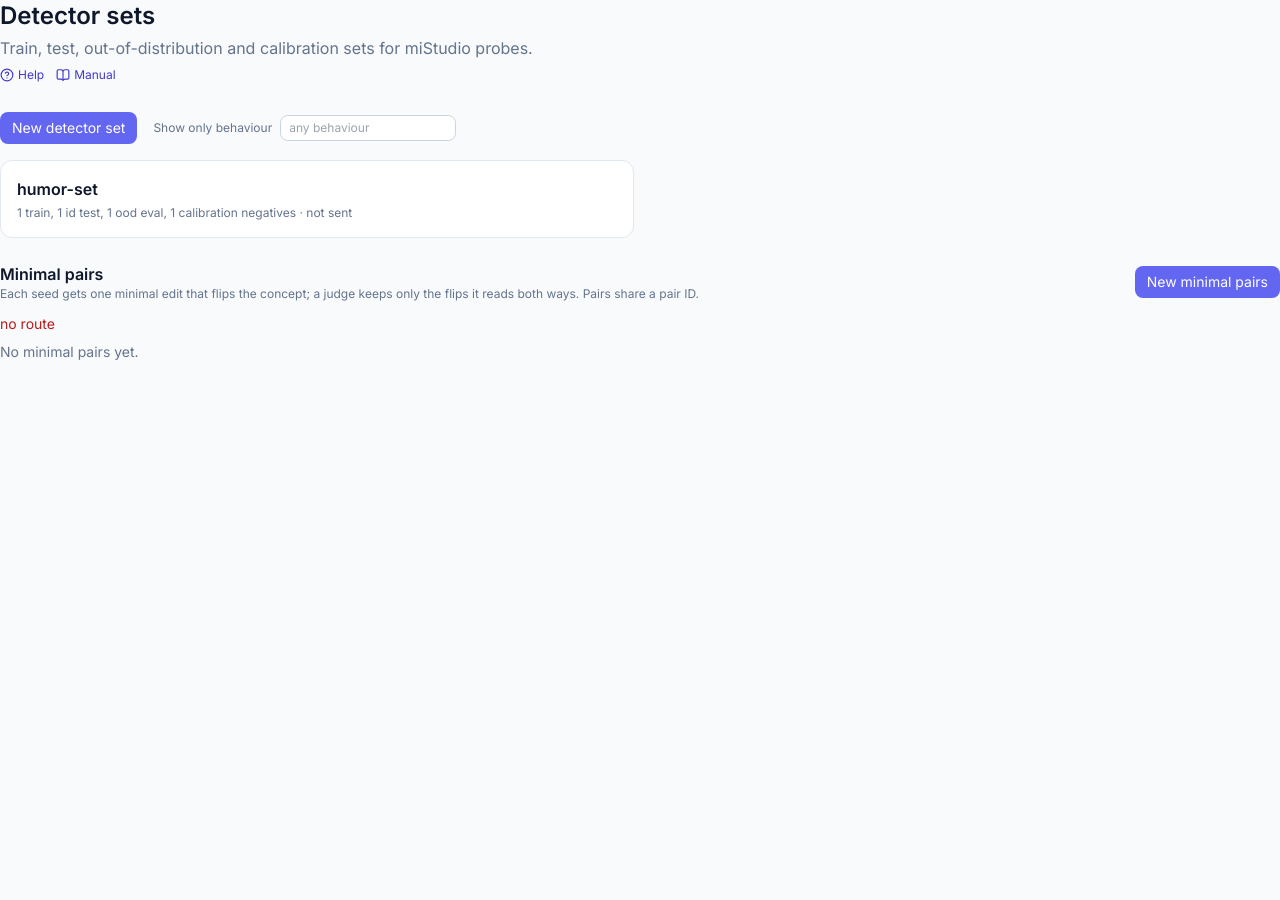
Scenario: DetectorSetsPanel through the real store and API client › an agent-style 202 with an approval shows the waiting notice
Click the button with test id "set-card-humor-set" at (57, 189), box [0, 160, 634, 238]
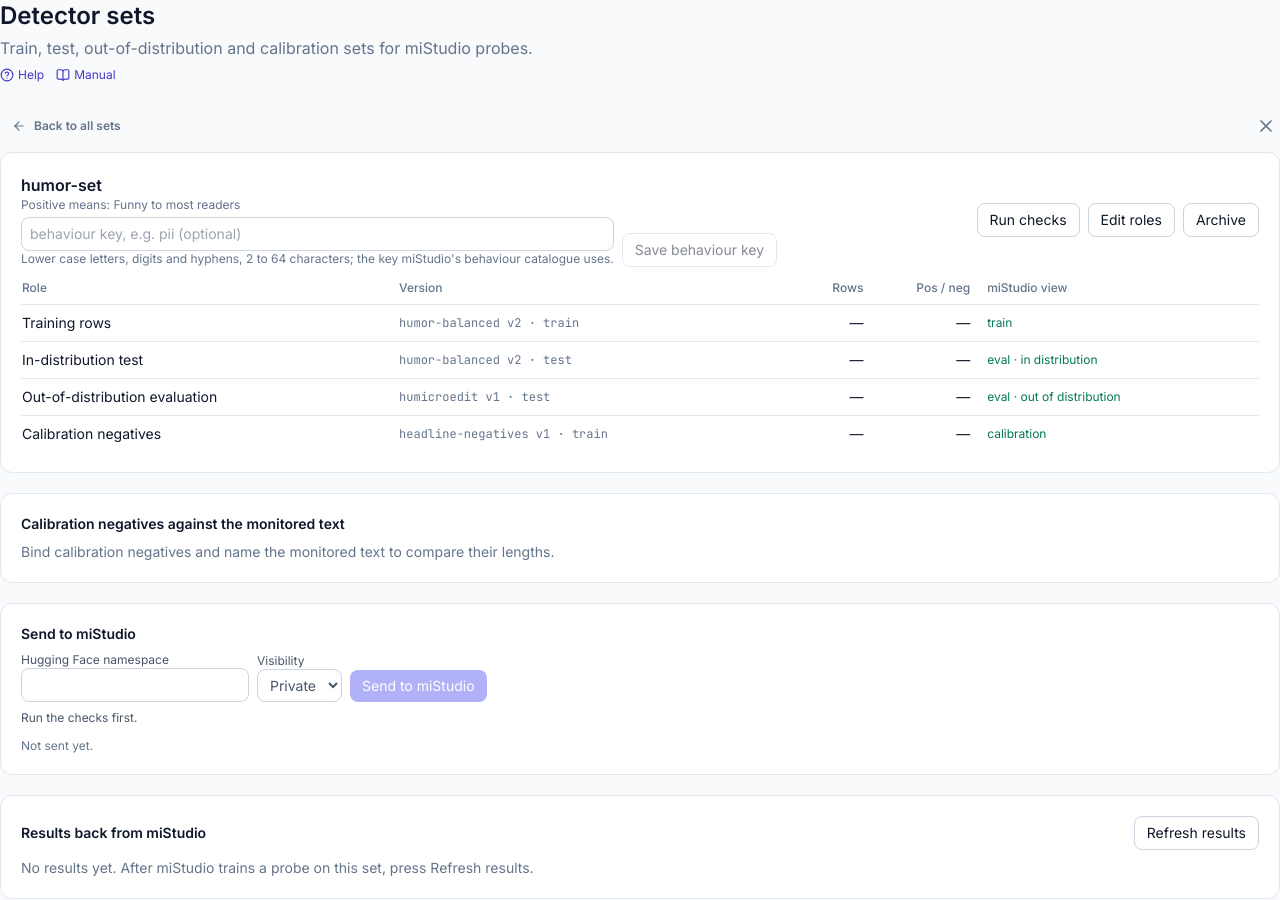
Click the button "Run checks" at (1028, 220), box [977, 203, 1080, 237]
(page scrolled)
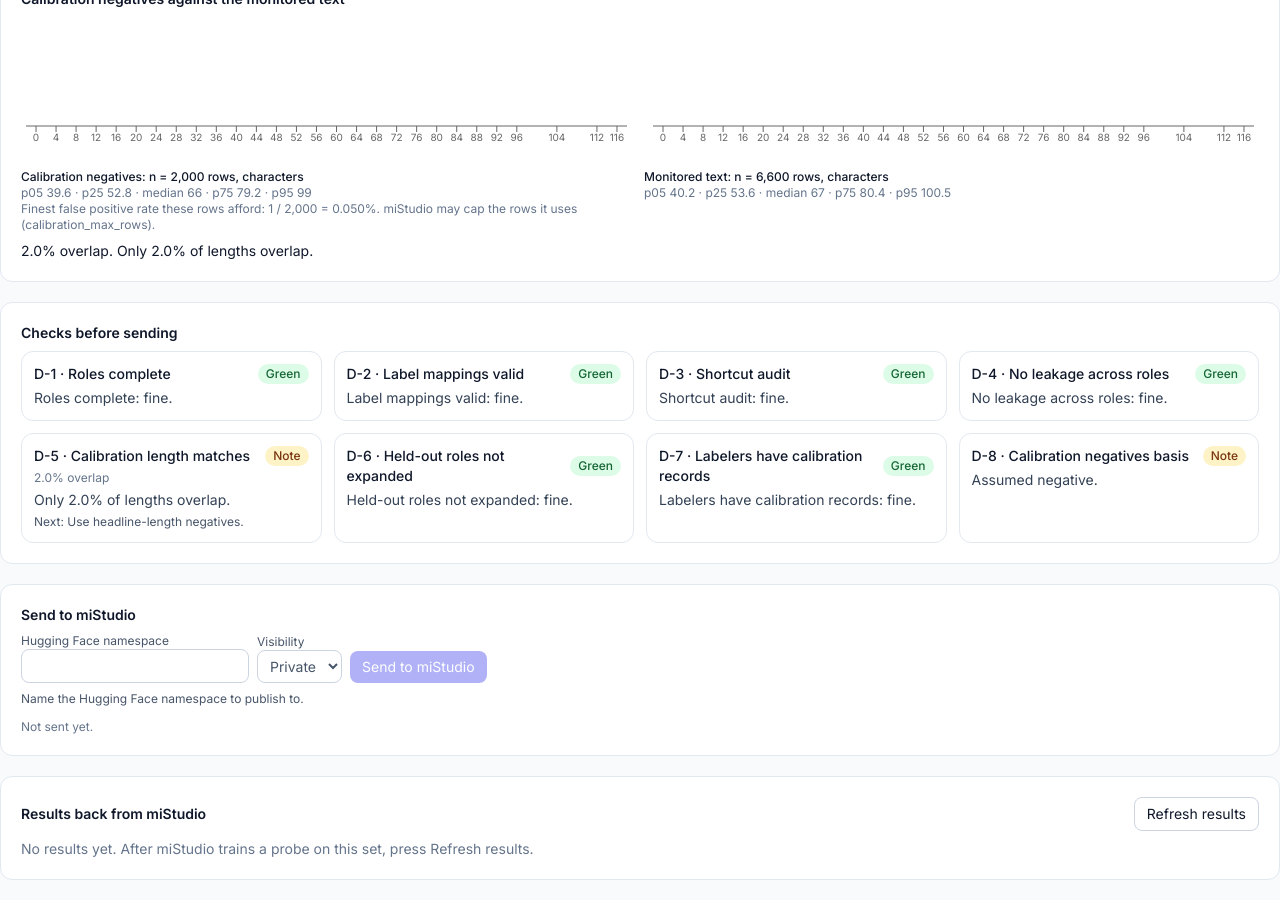
Check: the element with test id "detector-checks" is shown, box [21, 351, 1259, 543]
Type "mistudio" into the field labelled "Hugging Face namespace" at (135, 666), box [21, 649, 249, 683]
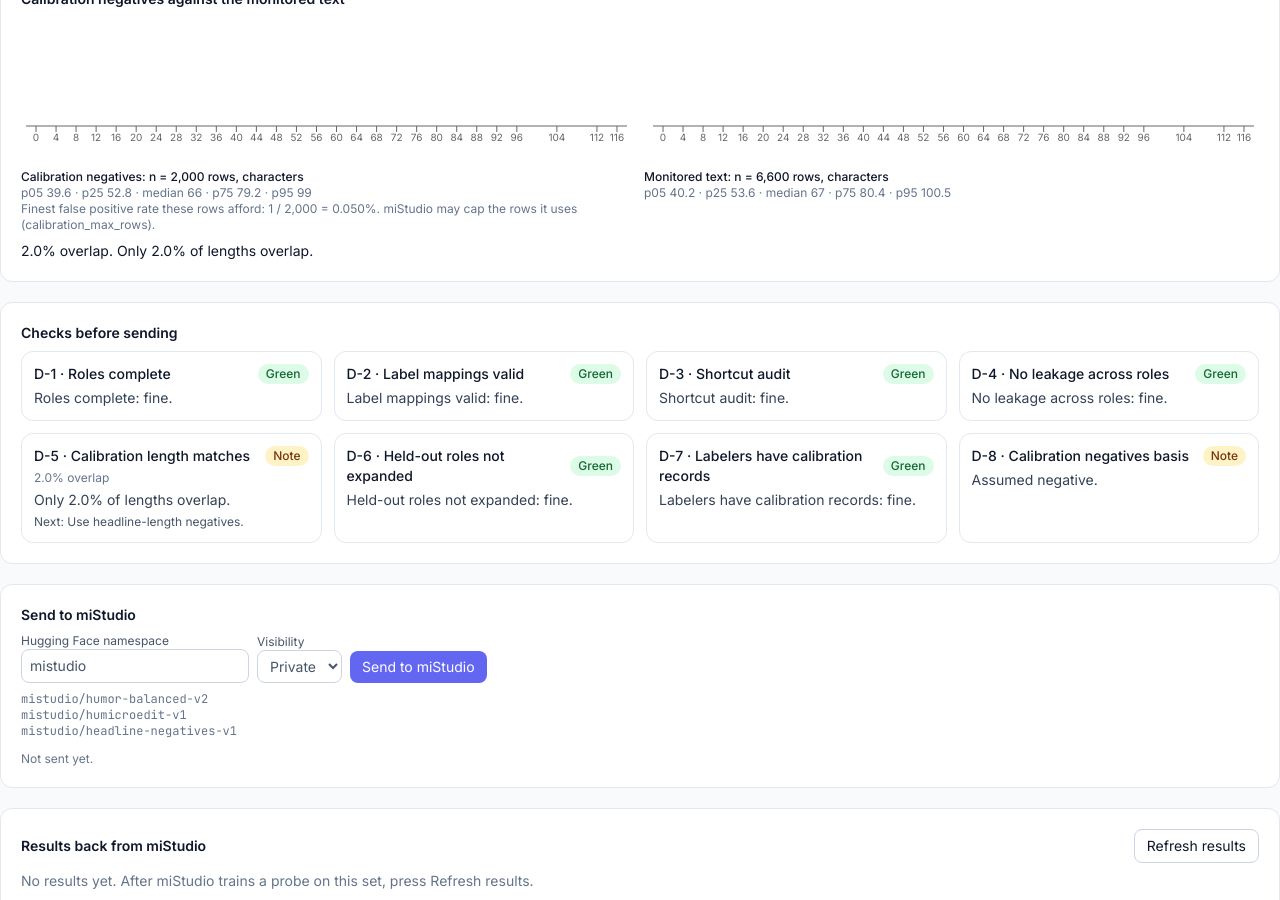
Click the button "Send to miStudio" at (418, 667), box [350, 651, 487, 683]
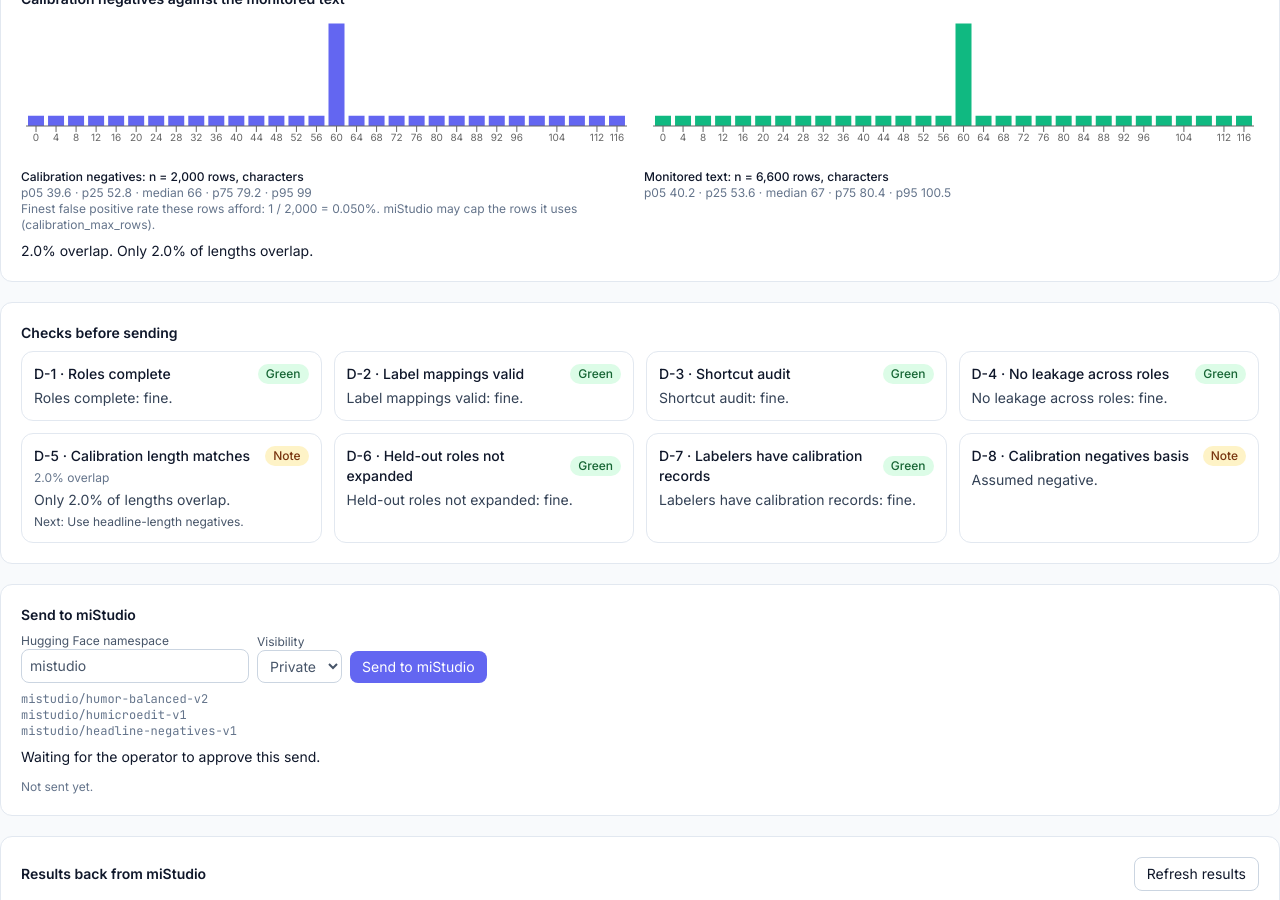
Check: the text with test id "send-notice" shows "Waiting for the operator", box [21, 748, 320, 765]
